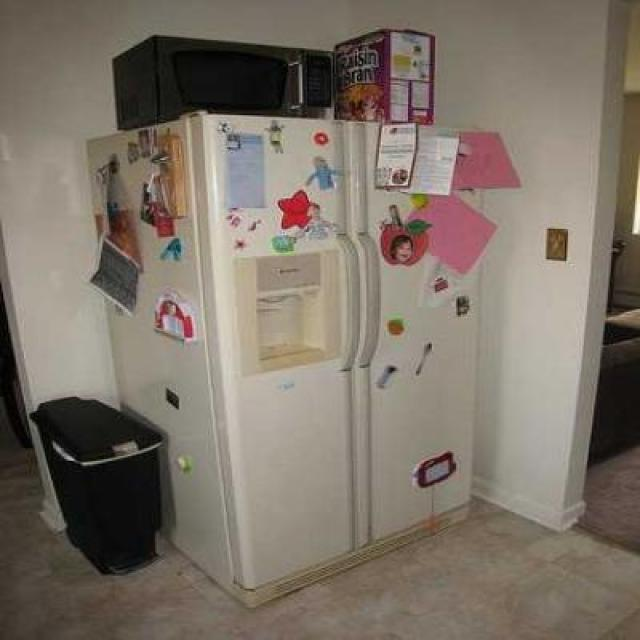refrigerator: (88, 119, 474, 566)
